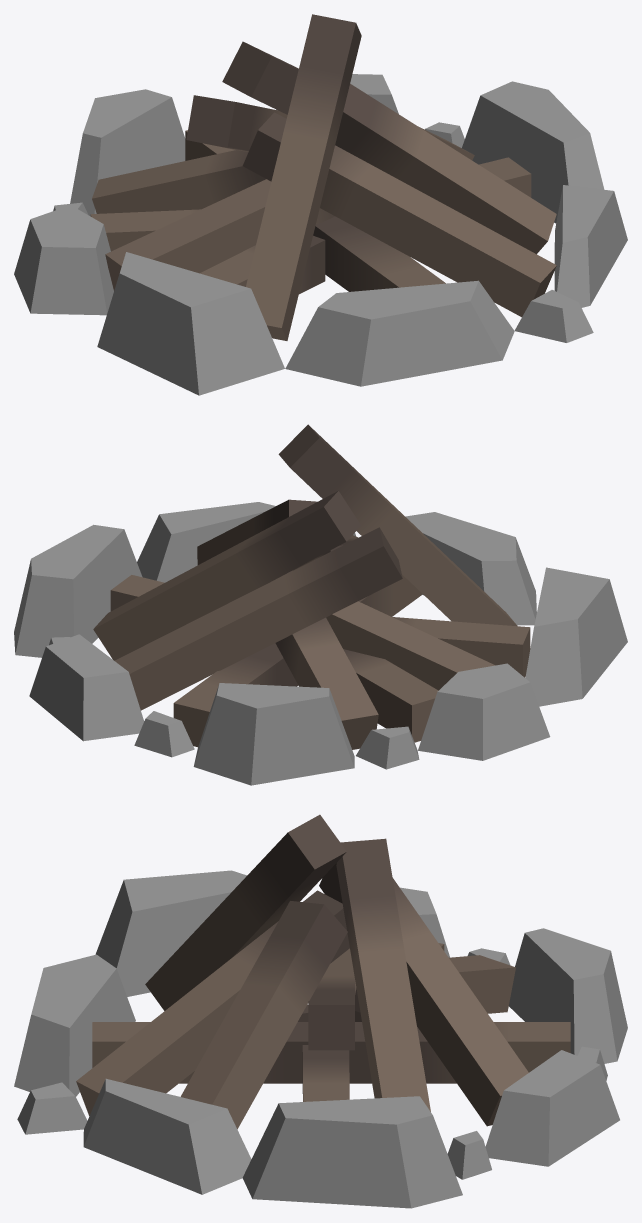
File: Bonfire.fbx
The picture shows the model from 3 angles, top to bottom: view 1: azimuth 30°, elevation 25°; view 2: azimuth 150°, elevation 25°; view 3: azimuth 270°, elevation 25°; orthographic projection. The views are drawn at different scales.
Visible parts, largest first — view 1: Bonfire_01; view 2: Bonfire_01; view 3: Bonfire_01.
Part boxes in pixels (x1,y1,x2,y2): Bonfire_01: (14,14,627,395); Bonfire_01: (14,424,627,785); Bonfire_01: (14,814,627,1208).
Bounding box in the file's own units: 9.78 × 4.25 × 9.24.
Materials: 1 (1 with a texture image).
